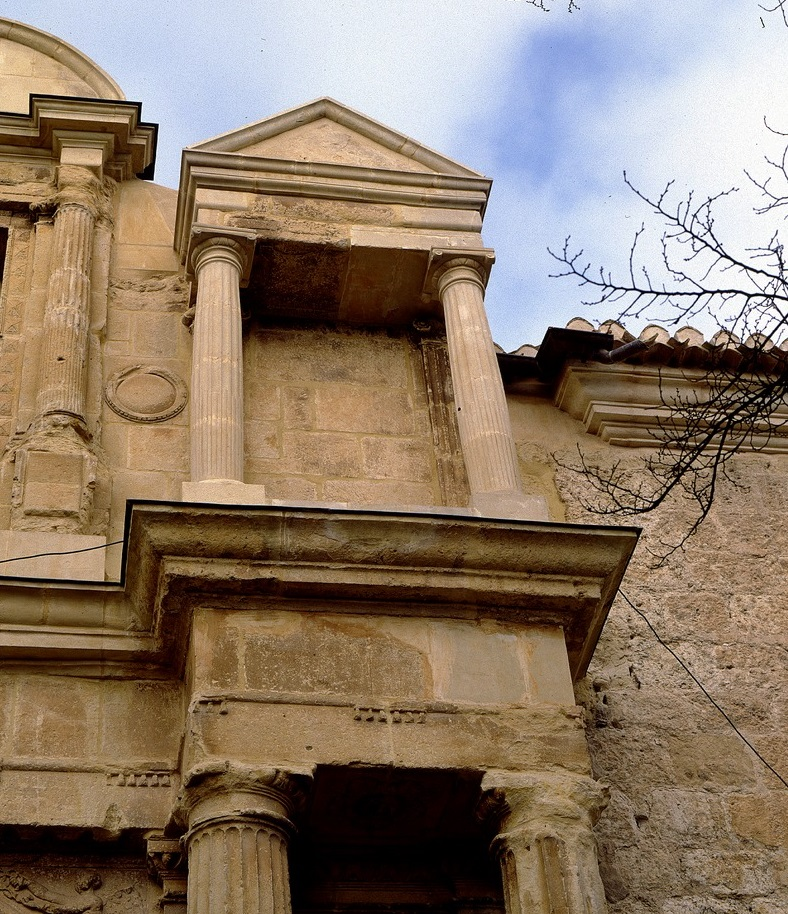fronton: (174, 89, 512, 202)
